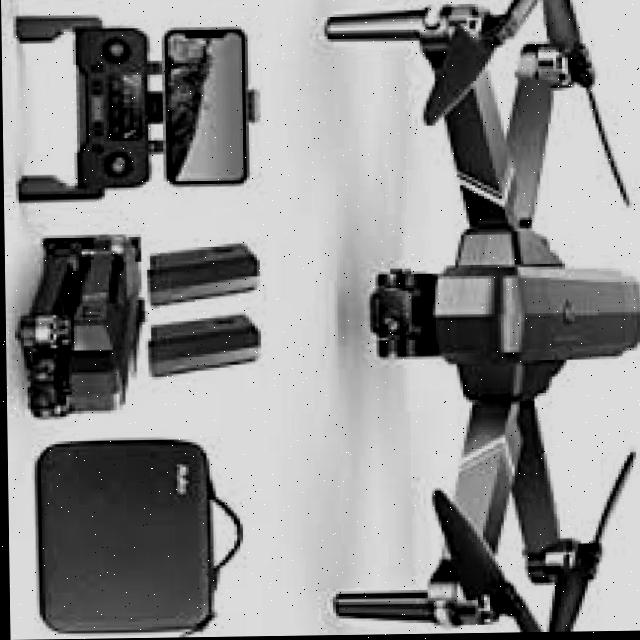drone: (292, 0, 640, 637)
